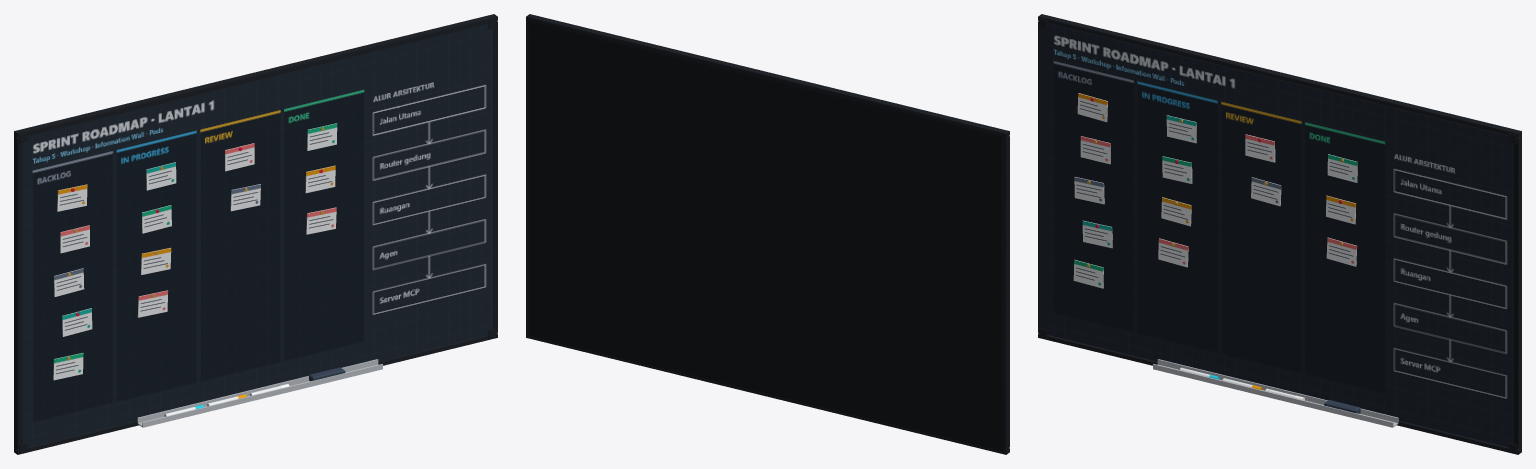
Rendered from Office_InfoWall_Kanban_Board.glb.
The picture shows the model from 3 angles, left to right: view 1: azimuth 30°, elevation 25°; view 2: azimuth 150°, elevation 25°; view 3: azimuth 330°, elevation 25°; orthographic projection.
Parts seen in each view (by area): view 1: Magnetic_Glass_Face, Anodized_Frame, Task_Cards, Marker_Tray; view 2: Backer_Plate, Anodized_Frame; view 3: Magnetic_Glass_Face, Anodized_Frame, Task_Cards, Marker_Tray.
Part boxes in pixels (left/top/right/bottom): Magnetic_Glass_Face: left=22, top=23, right=492, bottom=446; Anodized_Frame: left=14, top=14, right=497, bottom=454; Task_Cards: left=53, top=123, right=337, bottom=380; Marker_Tray: left=137, top=359, right=382, bottom=427; Backer_Plate: left=528, top=20, right=1003, bottom=451; Anodized_Frame: left=526, top=14, right=1009, bottom=454; Magnetic_Glass_Face: left=1043, top=23, right=1513, bottom=446; Anodized_Frame: left=1038, top=14, right=1521, bottom=454; Task_Cards: left=1073, top=93, right=1357, bottom=288; Marker_Tray: left=1153, top=359, right=1398, bottom=427.
Size of the model in its own units: 1.8 by 1.15 by 0.058.
Materials: 12 (2 with a texture image).
